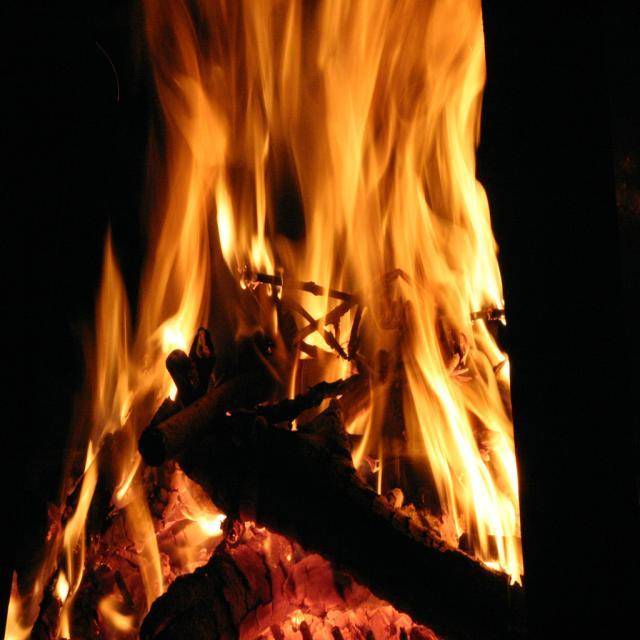Fire: (223, 3, 479, 141), (300, 144, 492, 303), (411, 332, 516, 518), (148, 66, 212, 314), (90, 320, 156, 448)
